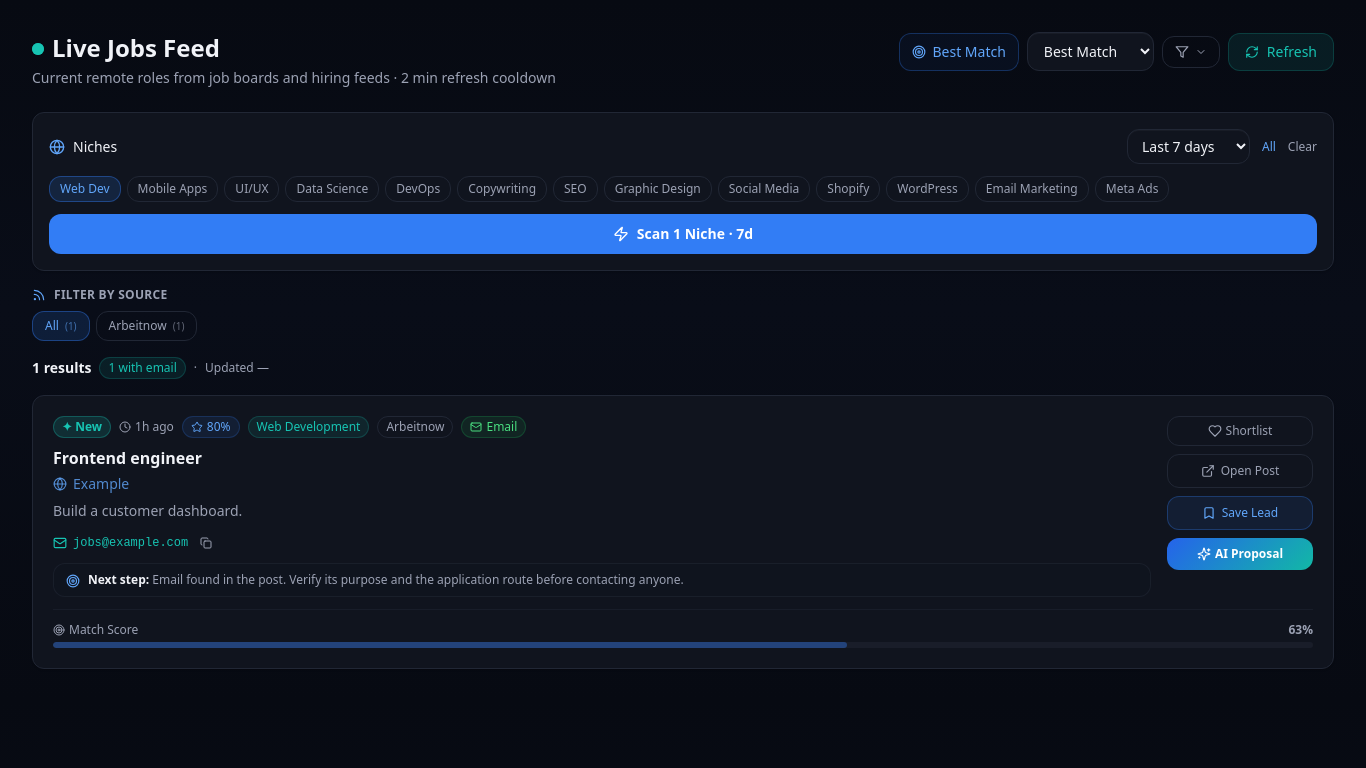
it: retains the previous results and controls after a failed rescan
Step 1. Click the button "Scan 1 Niche · 7d" → (683,234), box [49,214,1317,254]
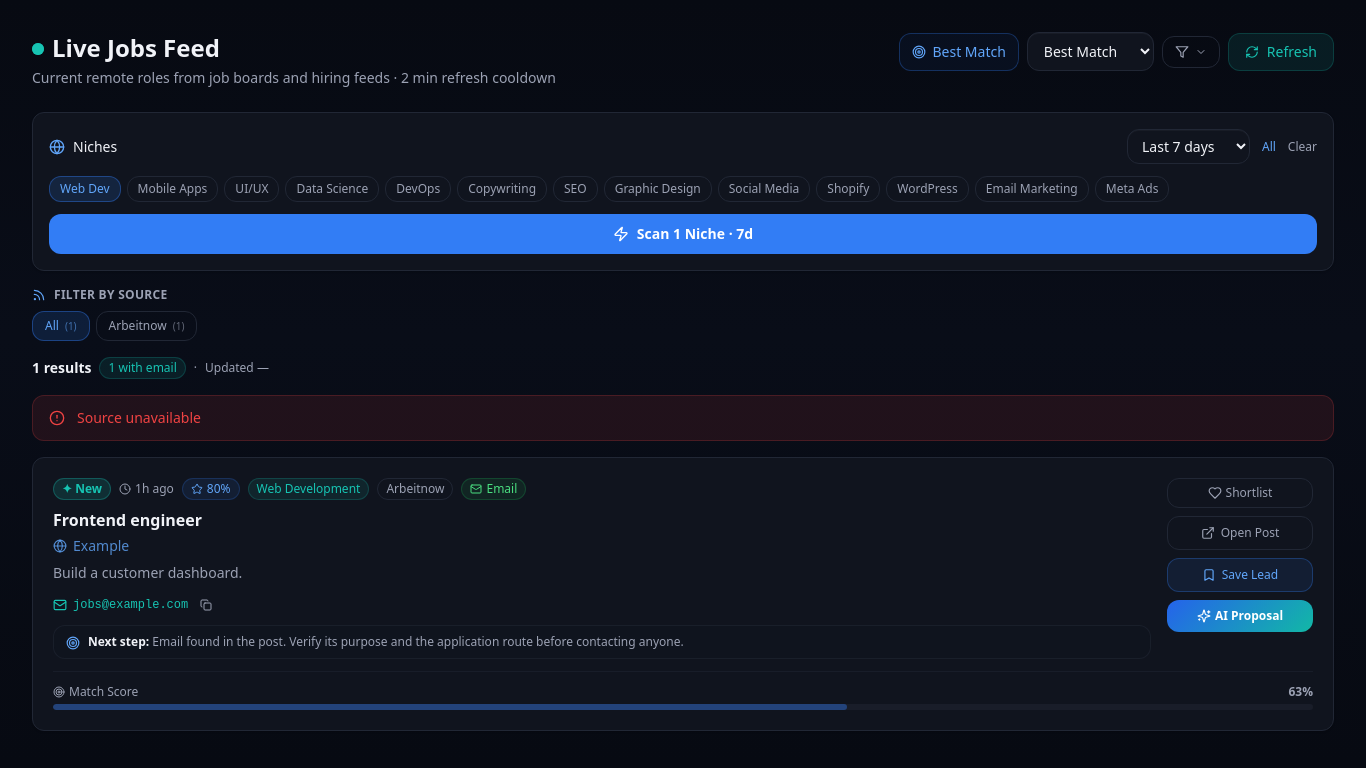
Expected: the heading "Frontend engineer" is shown, [53,509,202,531]
Expected: the text "Source unavailable" is shown, [77,408,201,428]
